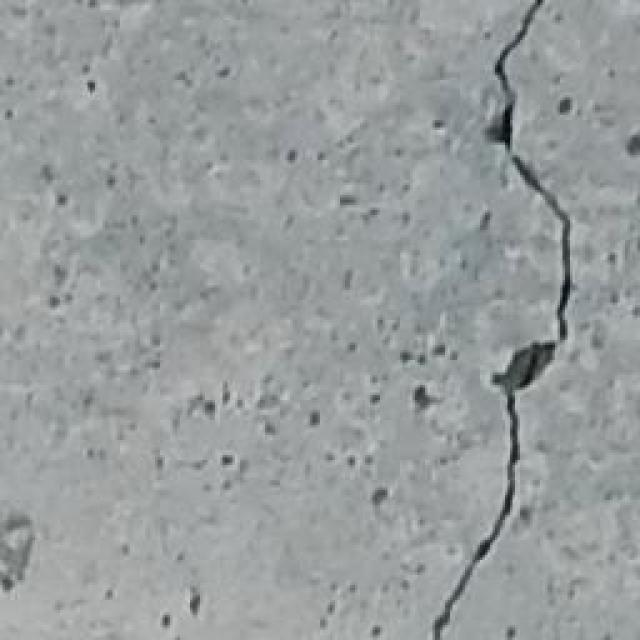concrete-crack: (432, 4, 576, 640)
